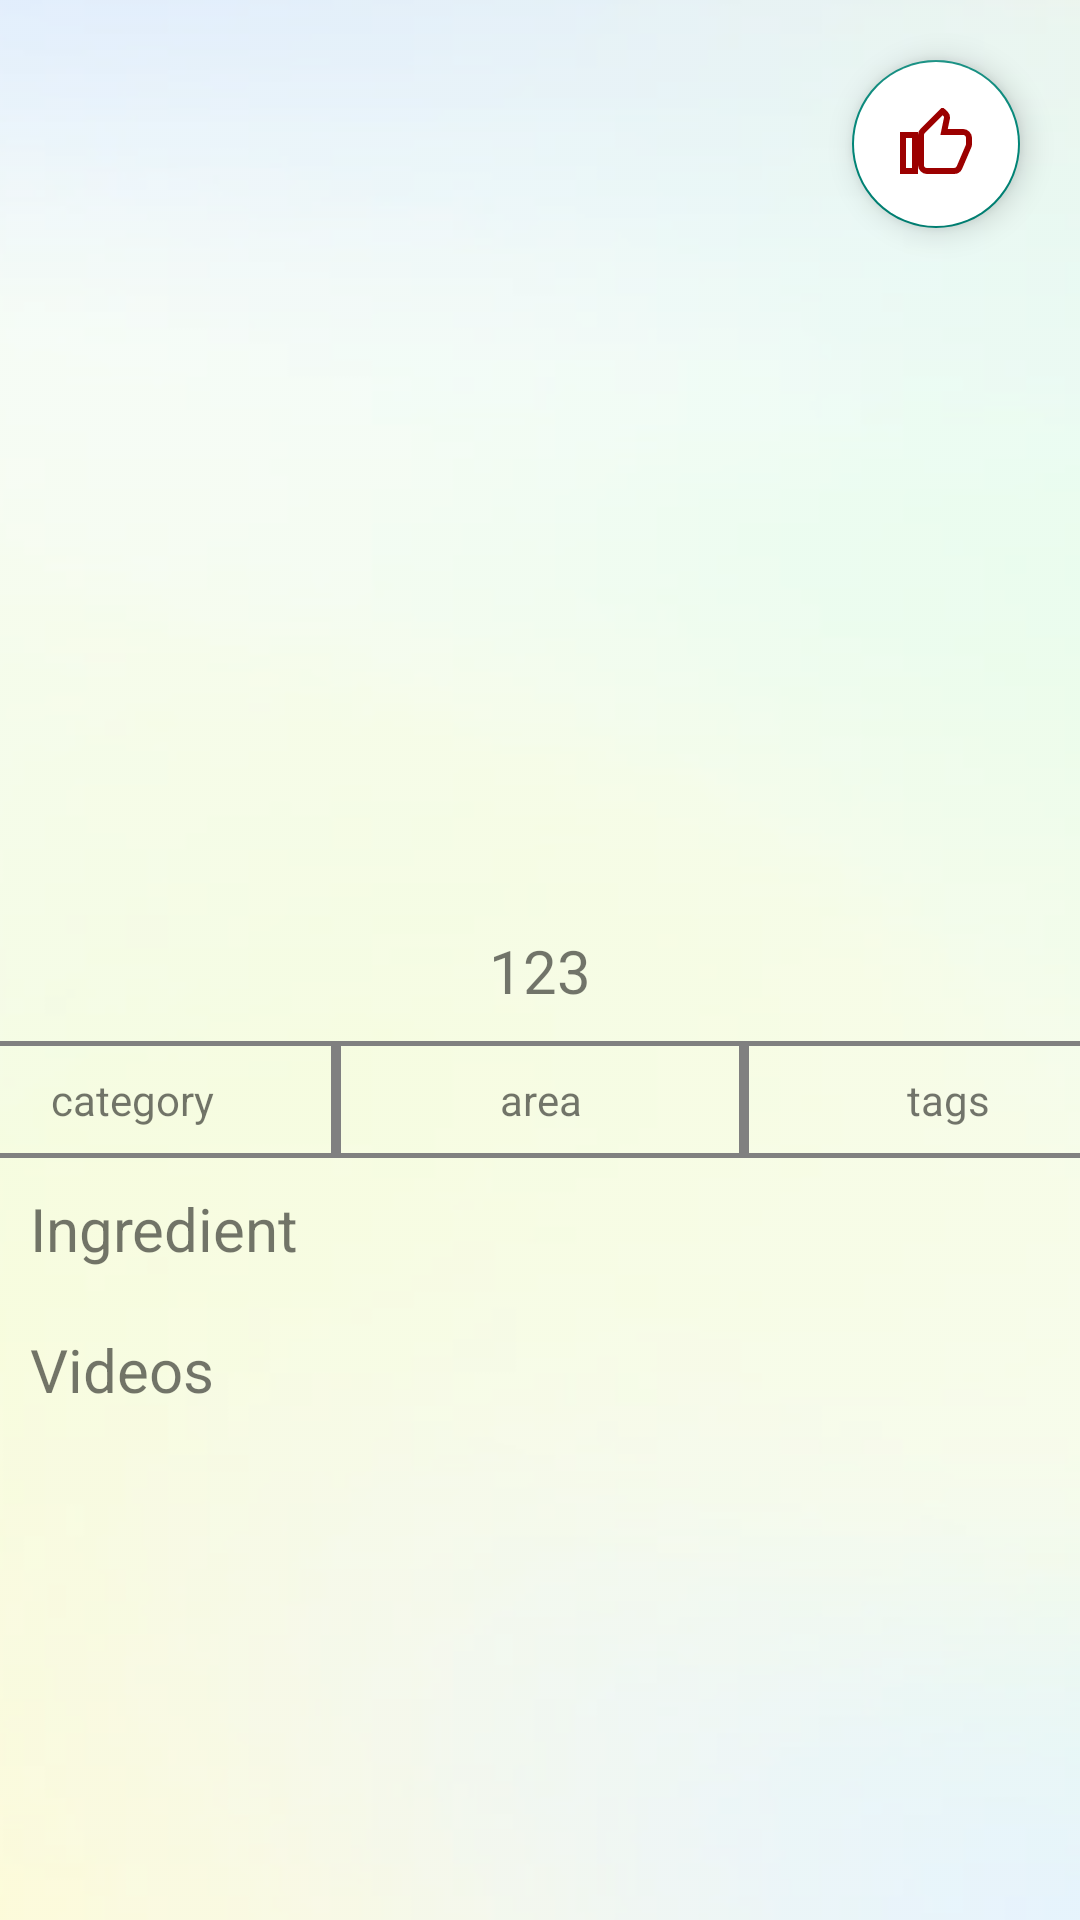

Icon click points for this 1080px×1920px phone screenshot, format [x,y]:
thumb: [936,144]
